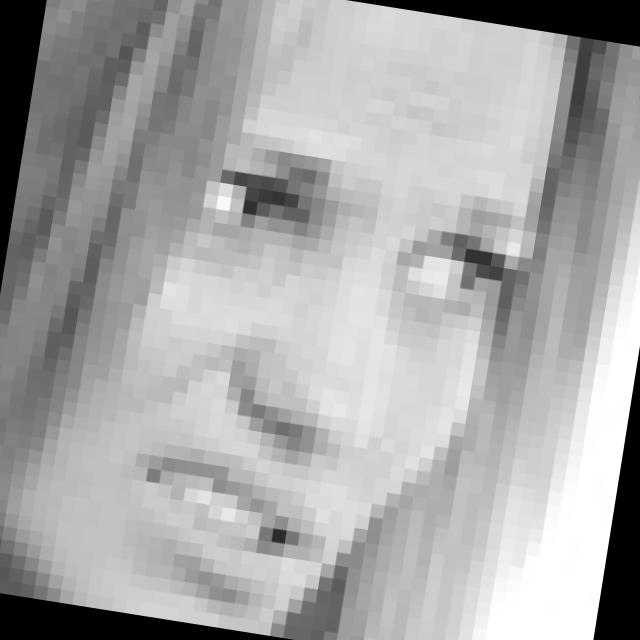disgust: (92, 134, 527, 640)
